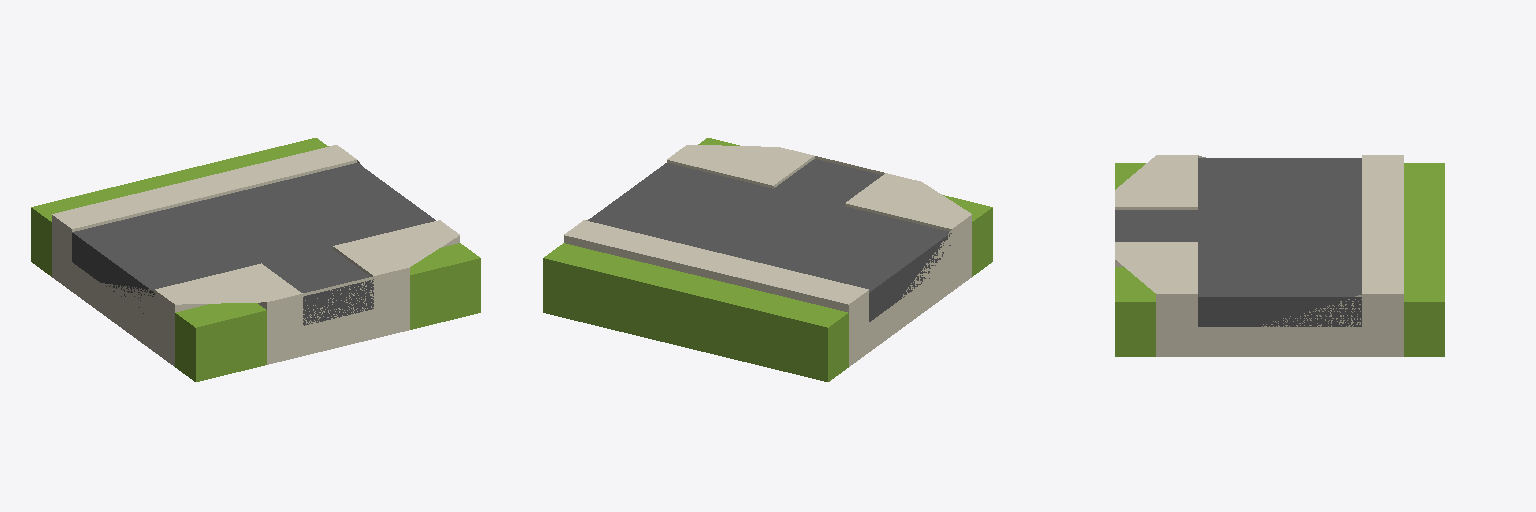
The model's file is roadTile_032.obj.
3 views of the same model, side by side, from view 1: azimuth 30°, elevation 25°; view 2: azimuth 150°, elevation 25°; view 3: azimuth 270°, elevation 25° (orthographic).
Visible parts, largest first — view 1: Mesh1_Group1_Model; view 2: Mesh1_Group1_Model; view 3: Mesh1_Group1_Model.
Boxes of the visible parts, x1,y1,x2,y2 form: Mesh1_Group1_Model: [31, 138, 480, 381]; Mesh1_Group1_Model: [543, 138, 992, 381]; Mesh1_Group1_Model: [1115, 155, 1444, 356].
Bounding box in the file's own units: 1.08 × 0.2268 × 1.08.